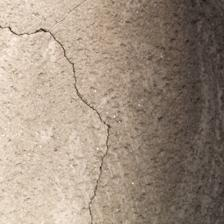Crack: (2, 22, 113, 128), (86, 126, 118, 224)
